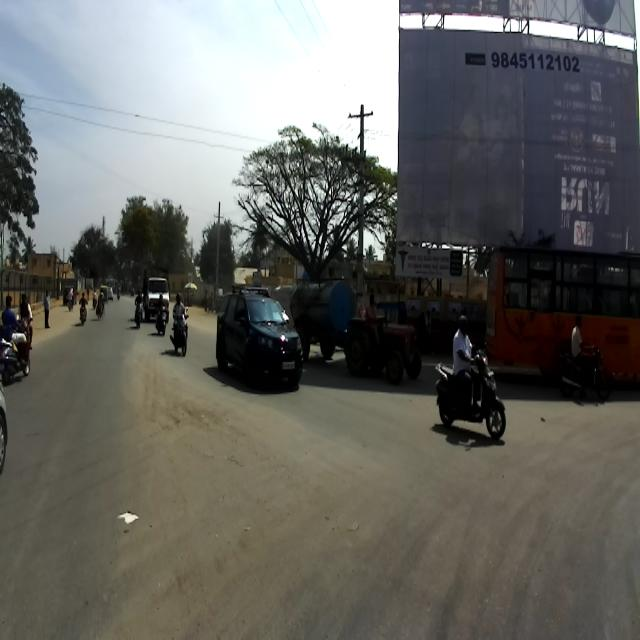car ahead at: (214, 278, 307, 398)
motorcycle ahead at: (432, 352, 512, 448)
